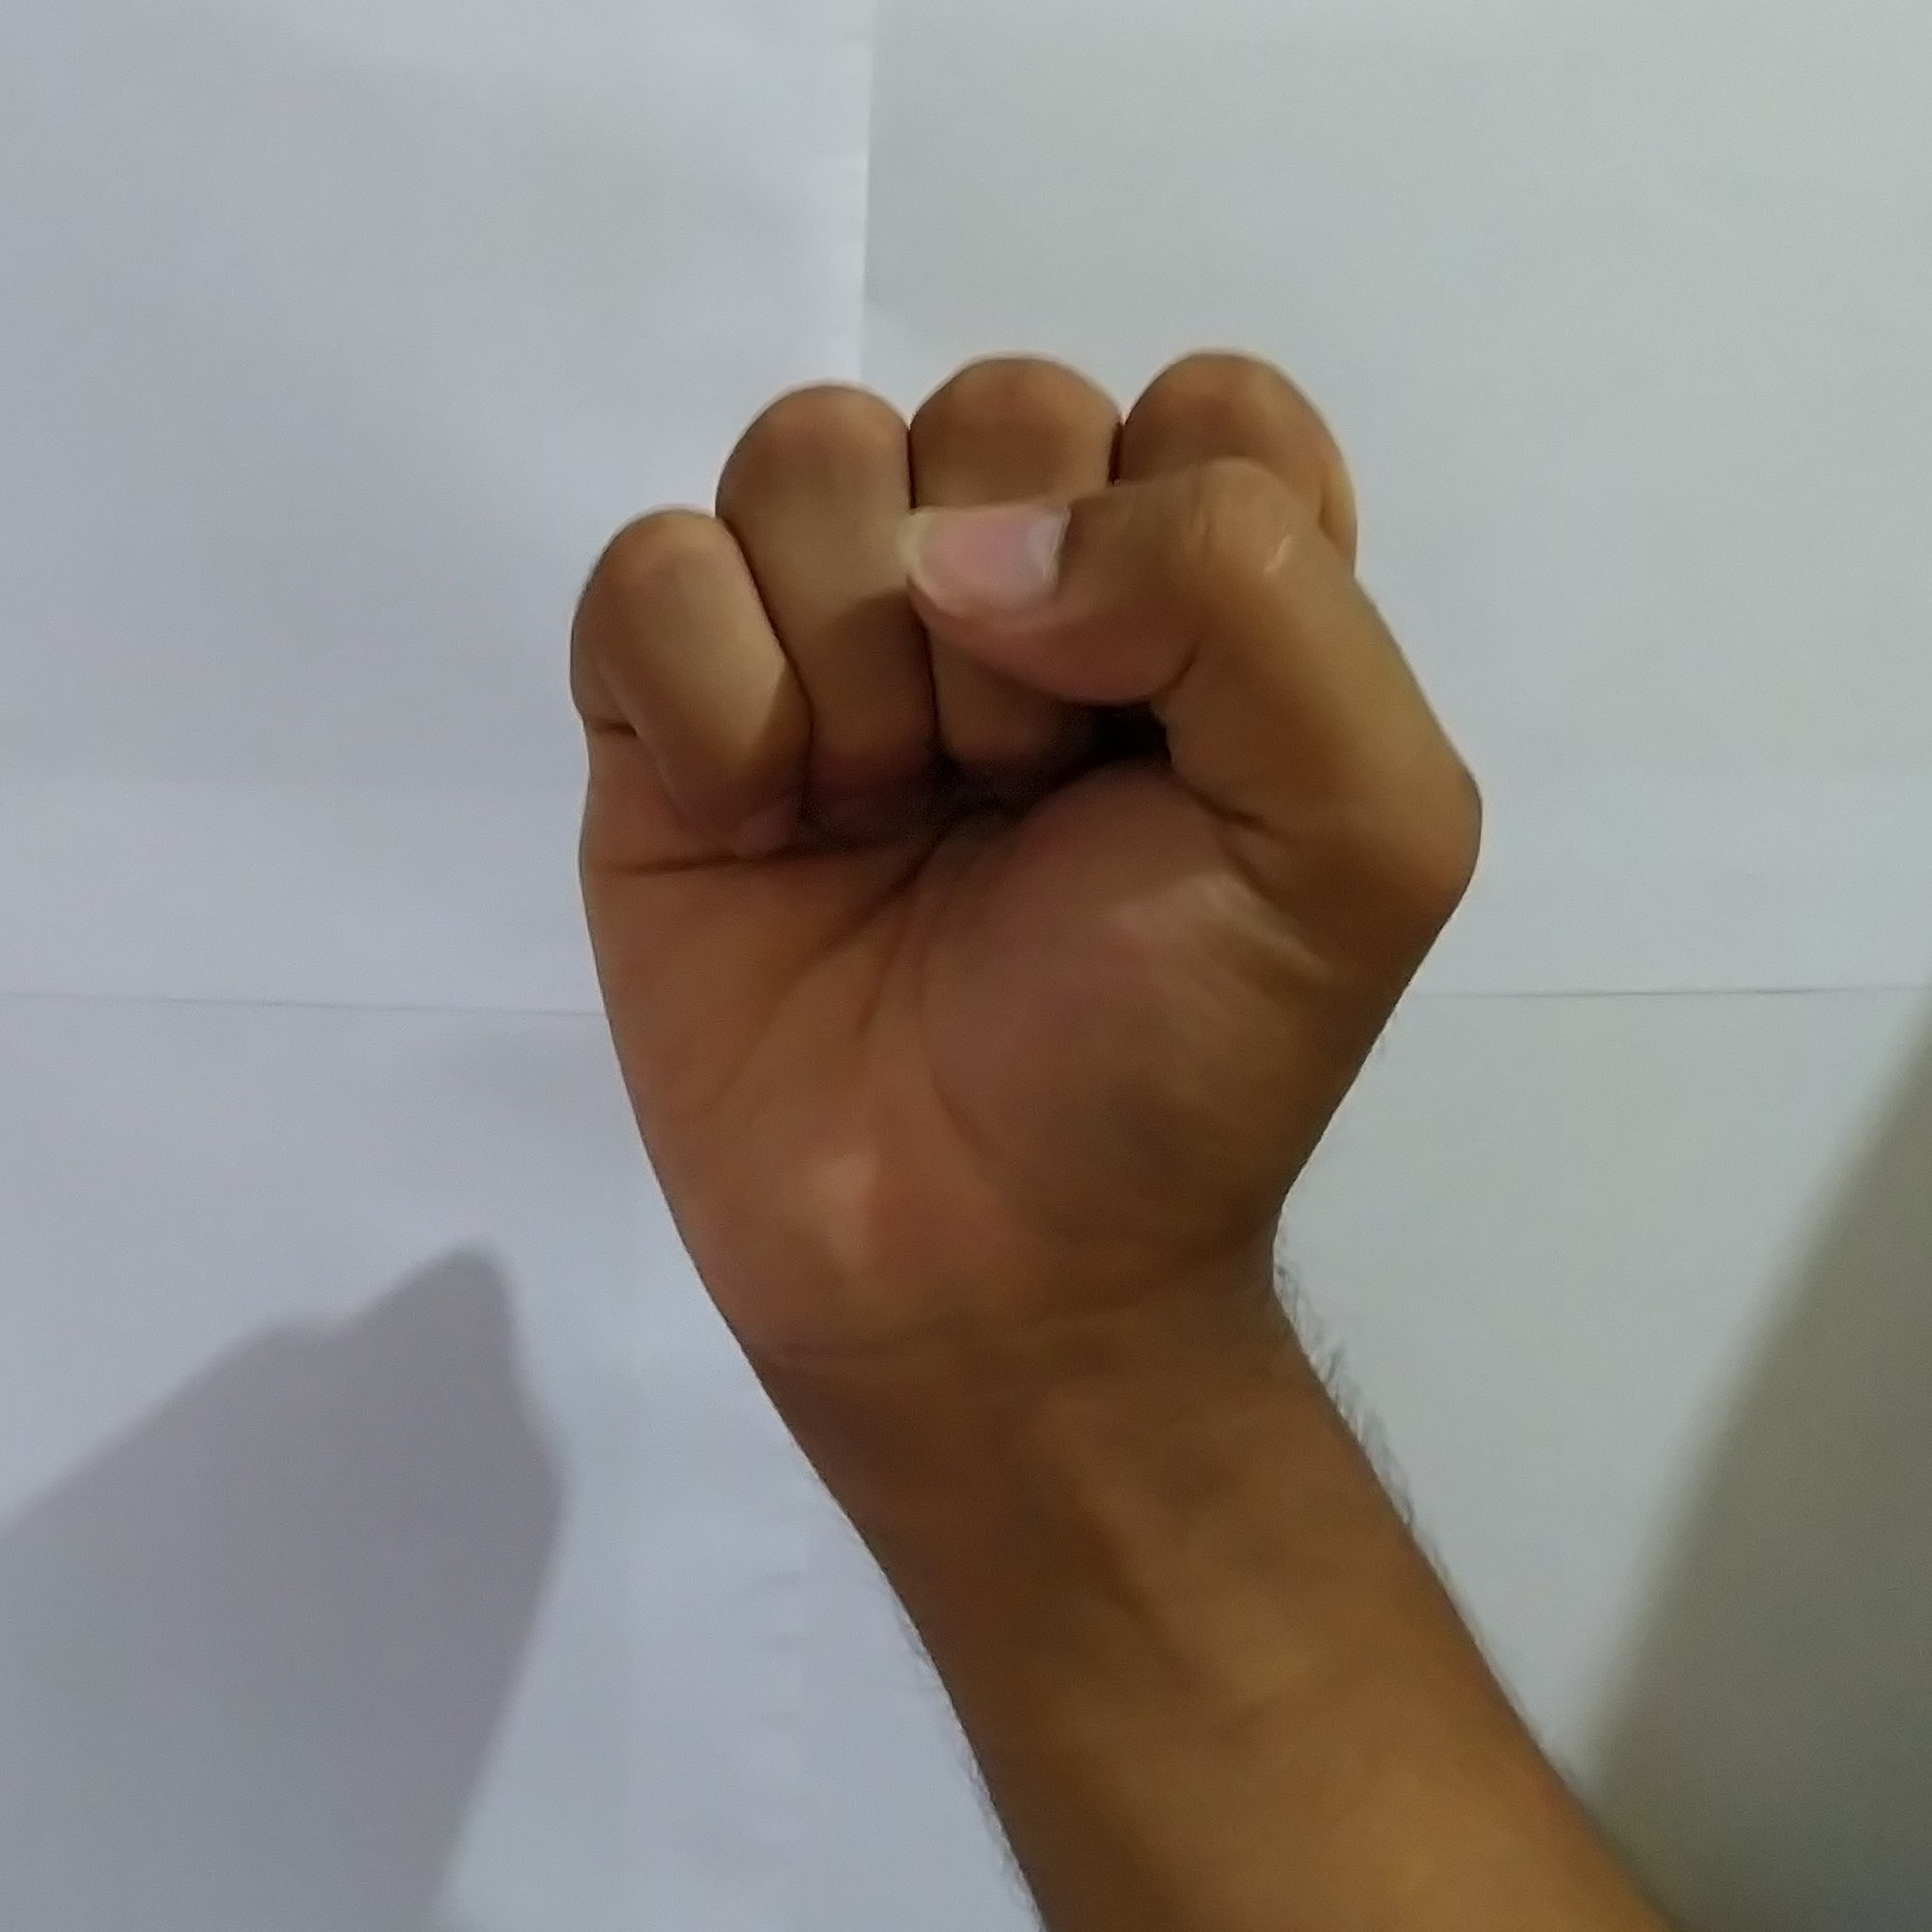S: (531, 318, 1507, 1299)
